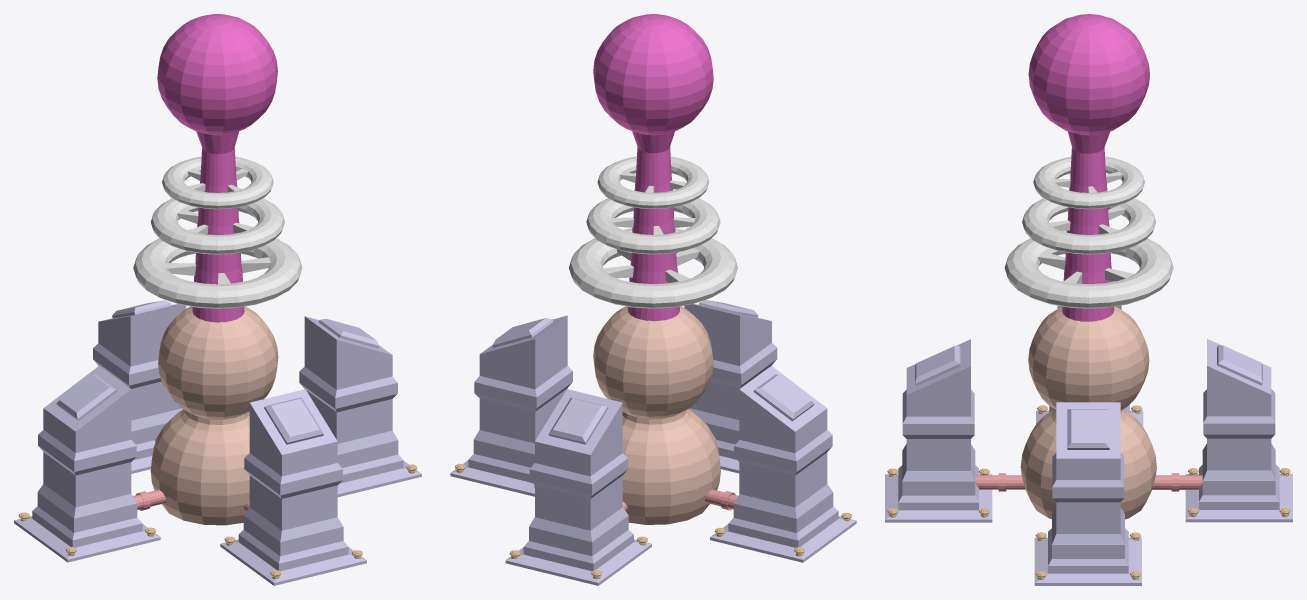
File: Character_Rooms_Bobin.fbx
3 renders of one model, left to right at view 1: azimuth 30°, elevation 25°; view 2: azimuth 150°, elevation 25°; view 3: azimuth 270°, elevation 25°, orthographic.
Parts seen in each view (by area): view 1: Cube; view 2: Cube; view 3: Cube.
Boxes of the visible parts, x1,y1,x2,y2 form: Cube: (14,14,421,585); Cube: (450,14,856,585); Cube: (885,14,1292,585).
Bounding box in the file's own units: 235 × 306 × 235.
